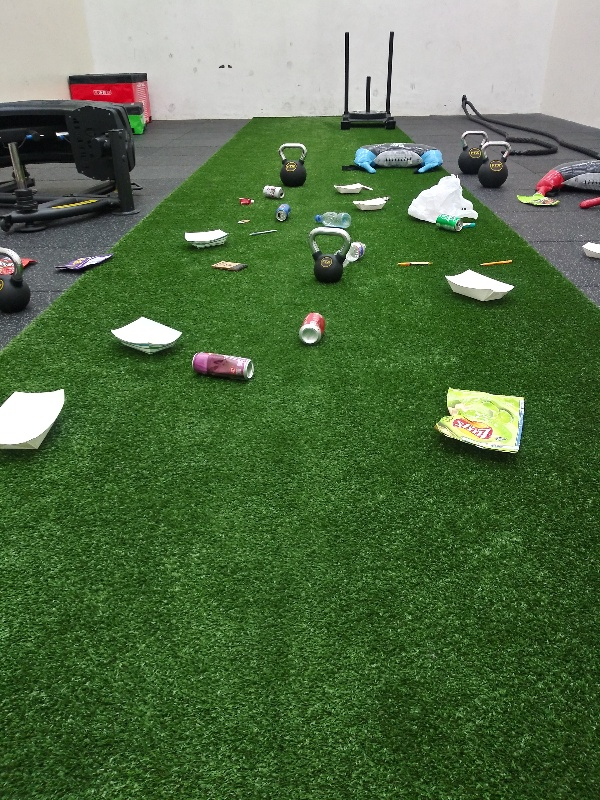bag: (430, 379, 529, 460), (52, 248, 116, 275), (513, 190, 561, 208)
bottle: (309, 211, 352, 230)
can: (185, 349, 258, 382), (295, 308, 333, 348), (432, 211, 466, 234), (258, 184, 287, 200), (275, 203, 294, 224)
plate: (1, 380, 73, 461), (102, 314, 186, 362), (440, 264, 515, 308), (175, 225, 230, 249), (348, 197, 389, 212), (578, 238, 600, 262), (330, 182, 365, 196)
